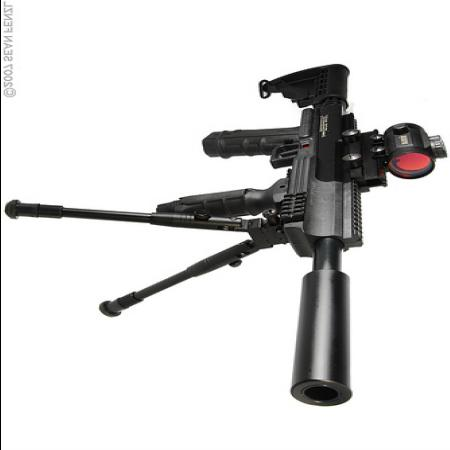Pistol: (175, 108, 380, 256)
